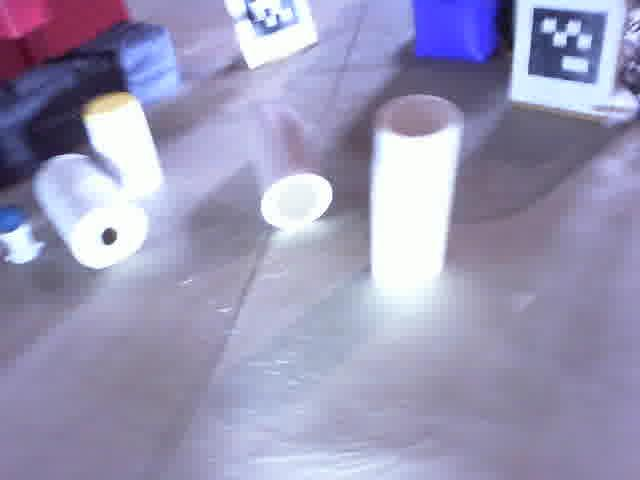coral: (363, 86, 468, 297), (236, 92, 337, 231), (76, 89, 175, 203)
